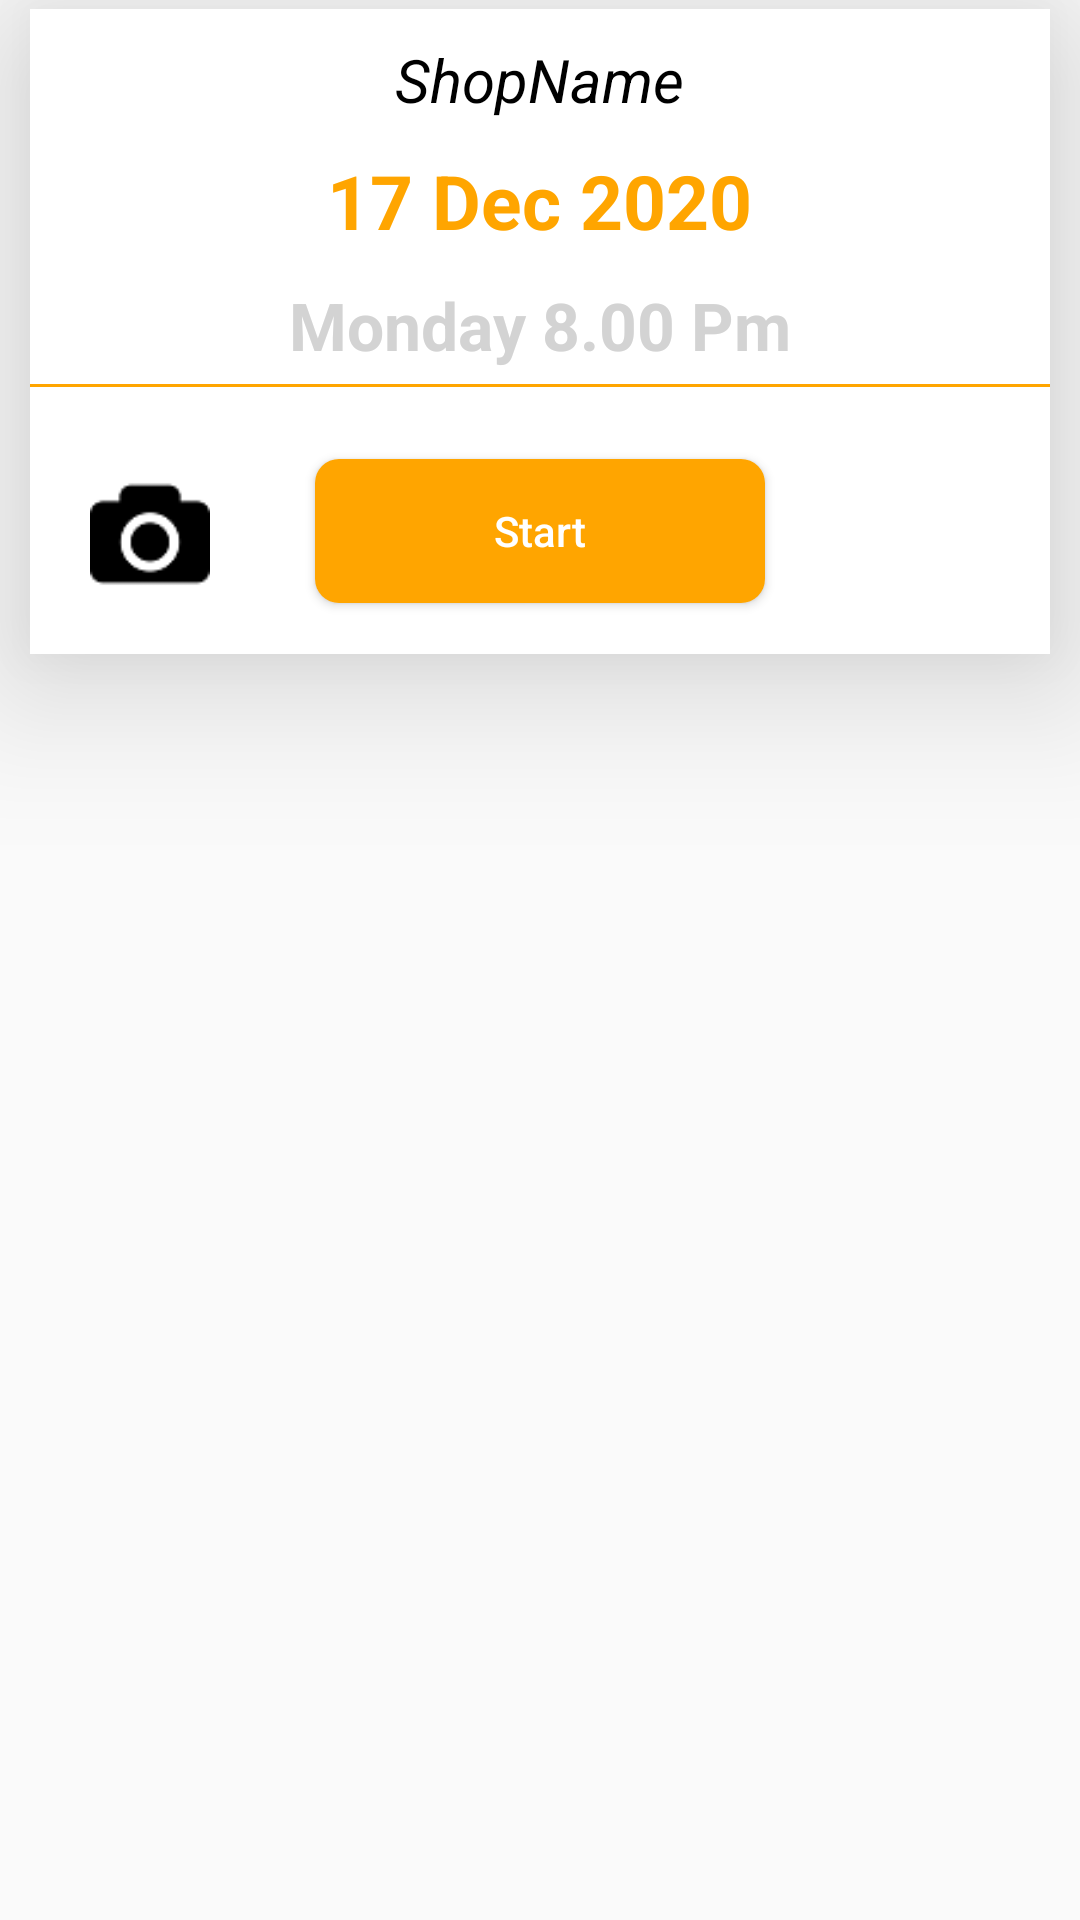

Where icons sit on this 1080w x 1920h app screen, as [x1, y1, x2, y2]:
cameraicon: [90, 483, 210, 585]
